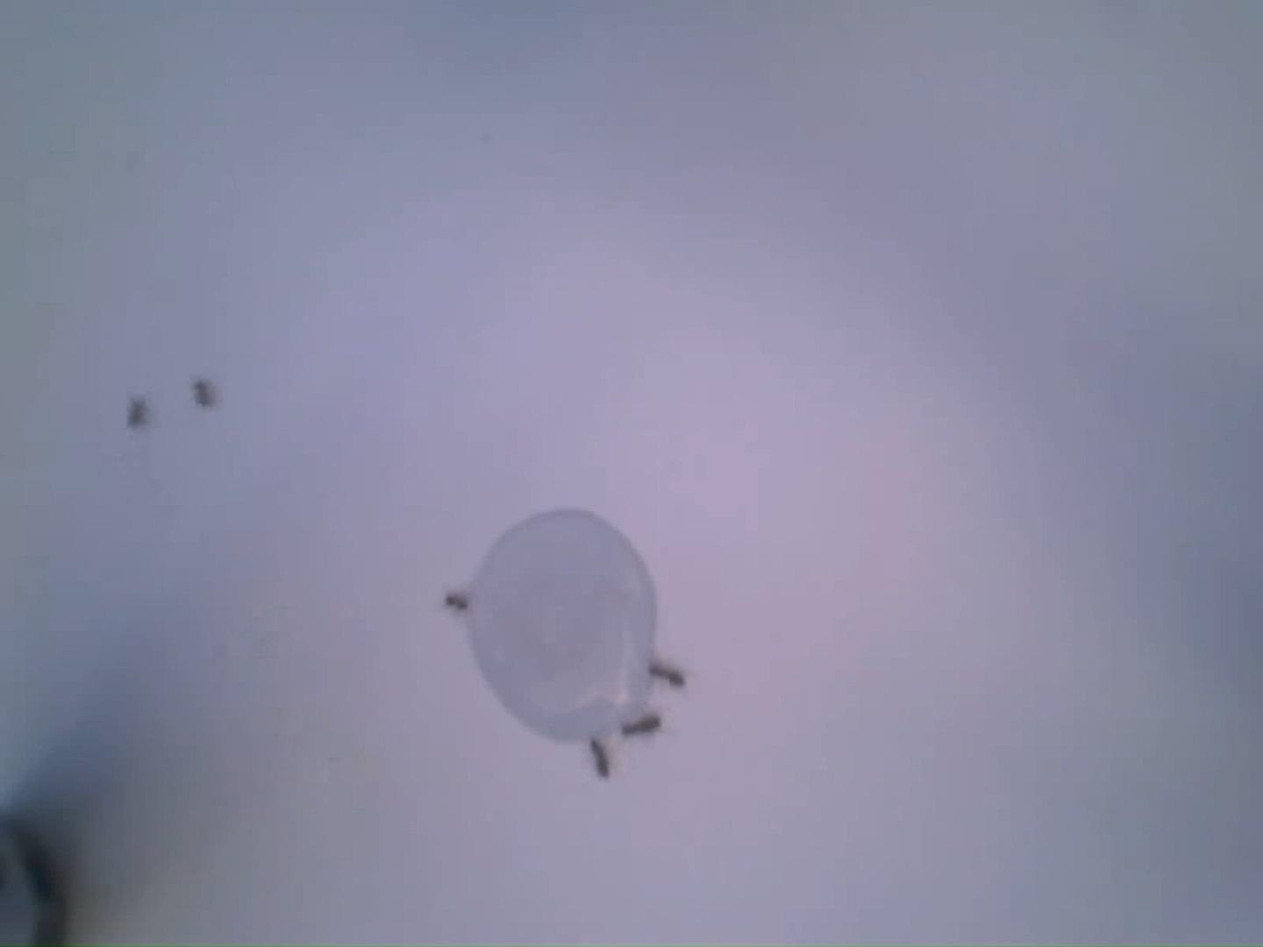Ant: (625, 712, 666, 737), (649, 661, 687, 686), (593, 738, 613, 777), (194, 377, 216, 406), (130, 396, 150, 425), (447, 593, 471, 611)
